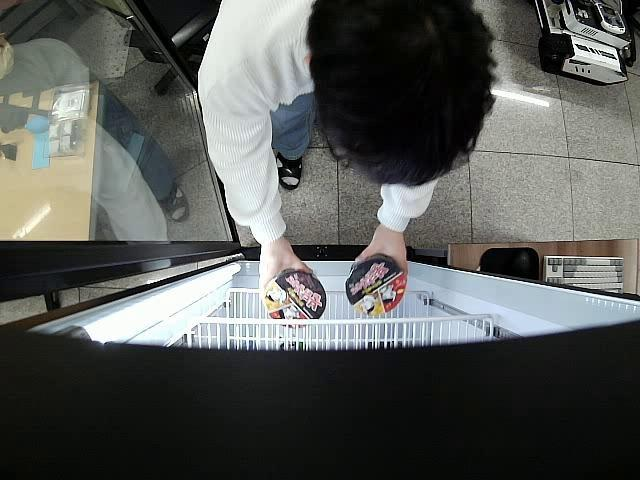07_buldak_L: (262, 270, 326, 330), (346, 256, 407, 315)
